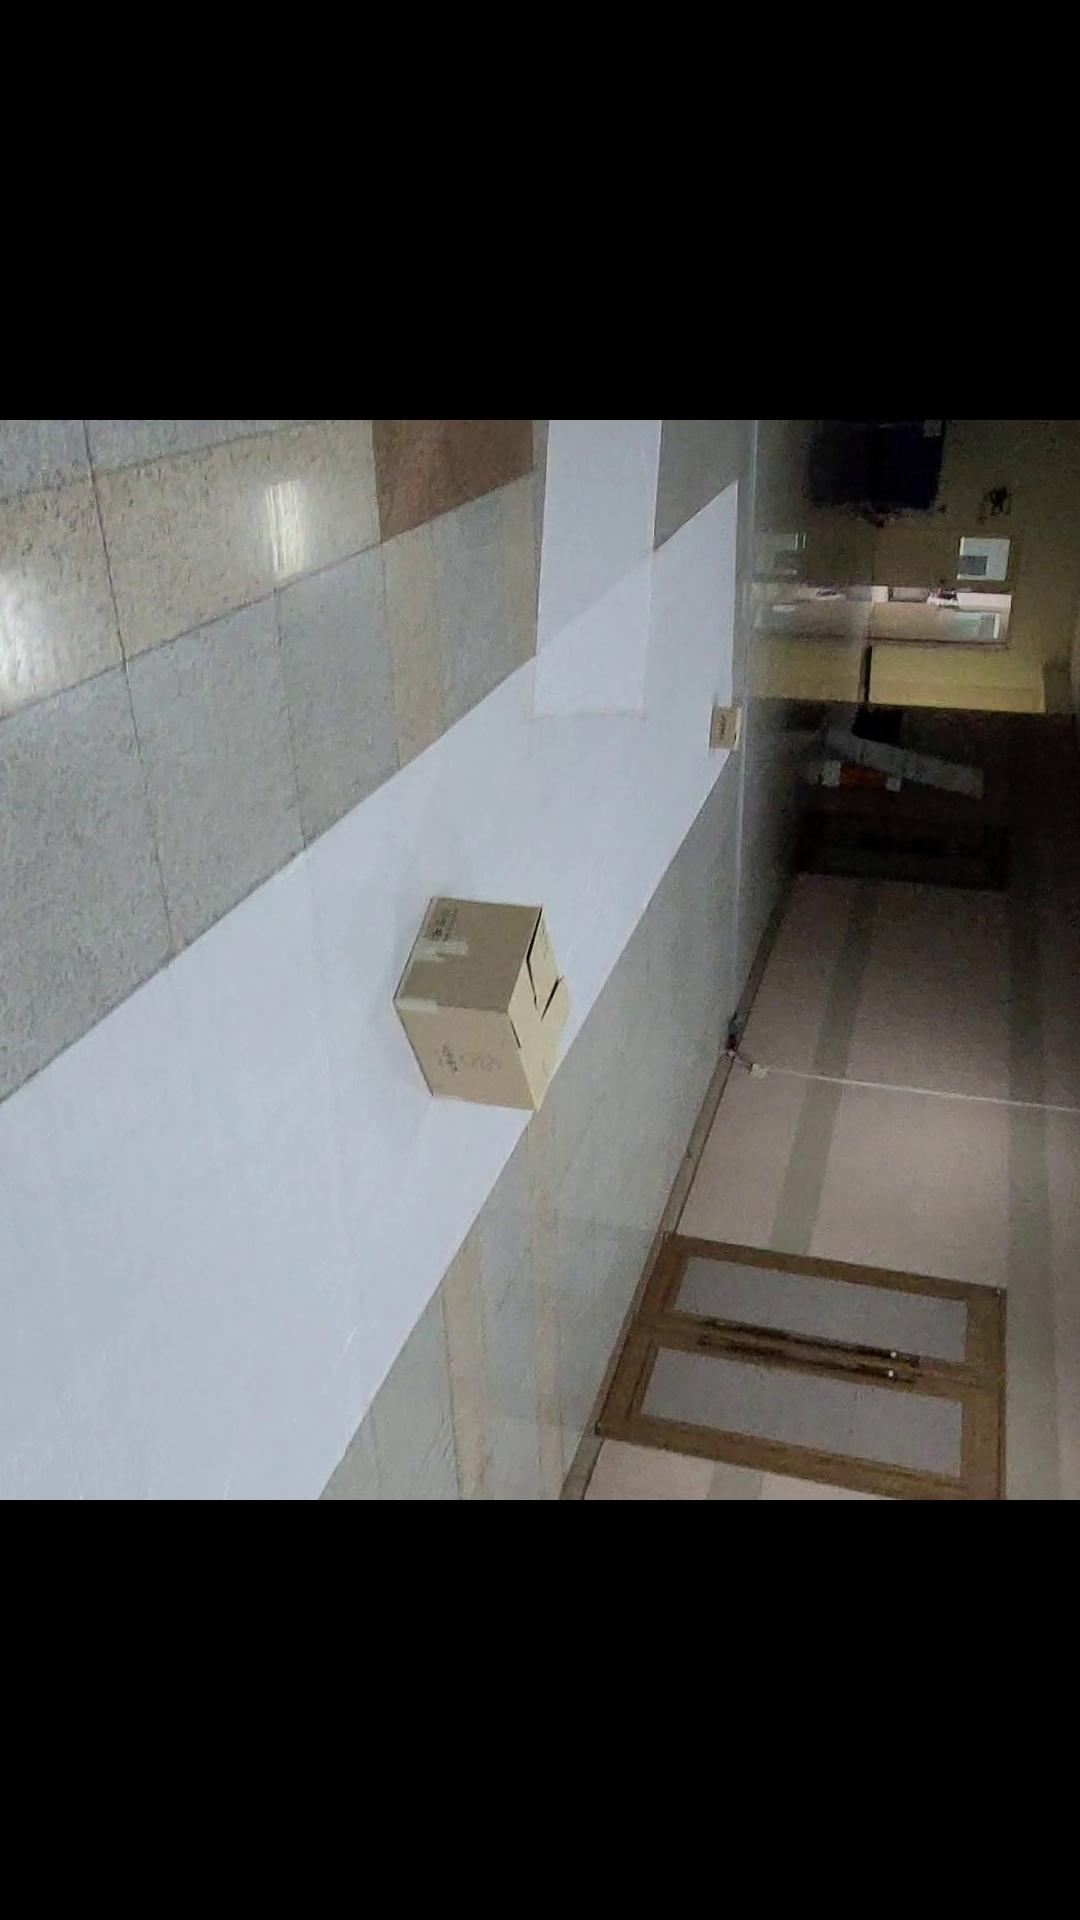Box: (365, 884, 592, 1139), (694, 680, 775, 775)
